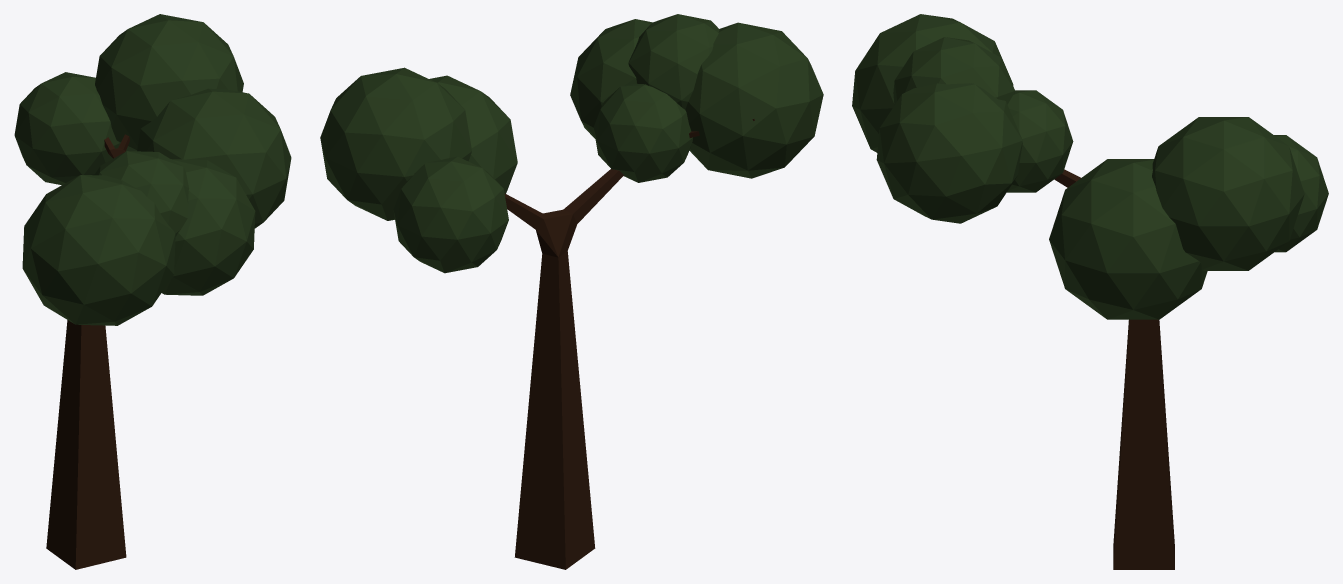
File: Tree_fbx.fbx
The picture shows the model from 3 angles, left to right: view 1: azimuth 30°, elevation 25°; view 2: azimuth 150°, elevation 25°; view 3: azimuth 270°, elevation 25°; orthographic projection. The views are drawn at different scales.
Parts seen in each view (by area): view 1: Icosphere.003, Cube; view 2: Icosphere.003, Cube; view 3: Icosphere.003, Cube.
Part boxes in pixels (left/top/right/bottom): Icosphere.003: left=14, top=14, right=291, bottom=325; Cube: left=46, top=134, right=129, bottom=569; Icosphere.003: left=320, top=14, right=823, bottom=273; Cube: left=504, top=119, right=754, bottom=569; Icosphere.003: left=852, top=14, right=1328, bottom=319; Cube: left=1054, top=169, right=1174, bottom=569.
Bounding box in the file's own units: 344 × 456 × 396.
